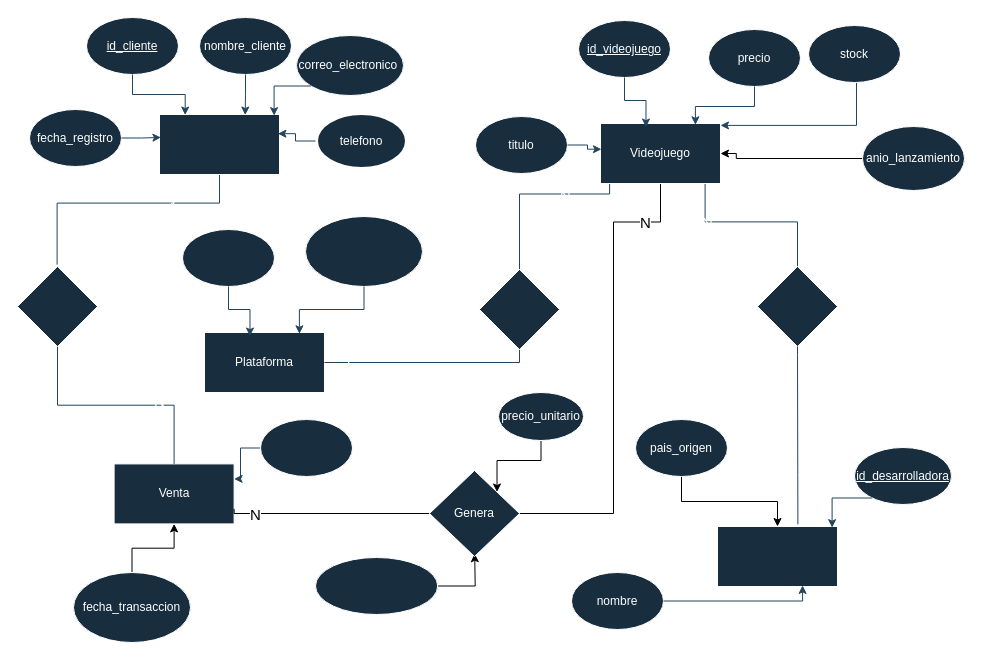
The diagram is 982 pixels wide and 660 high, and some of its shapes have lost their labels. Here are the shapes that lost their labels. From the top down, the centre of each, then its label:
point 219,144: Cliente
point 228,257: id_plataforma
point 363,251: nombre_comercial
point 57,306: Produce
point 519,309: Esta en
point 797,306: Es_Hecho
point 306,447: id_venta
point 777,556: Desarrolladora
point 376,585: unidades_compradas
